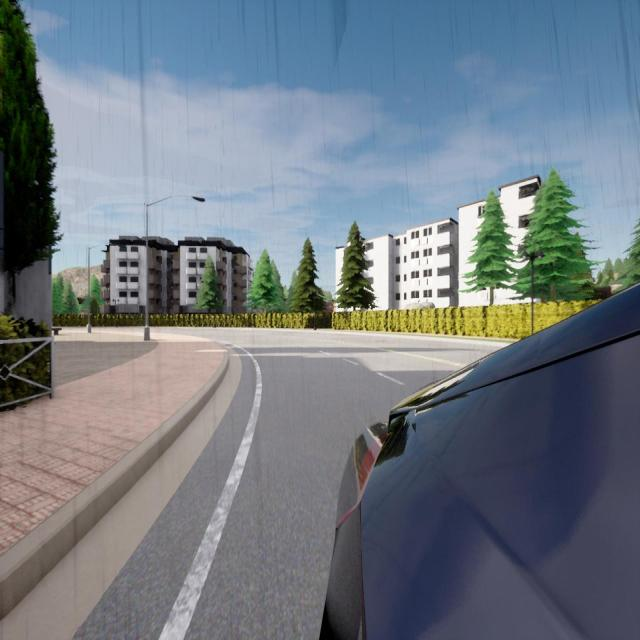Vehicle: (322, 284, 640, 638)
